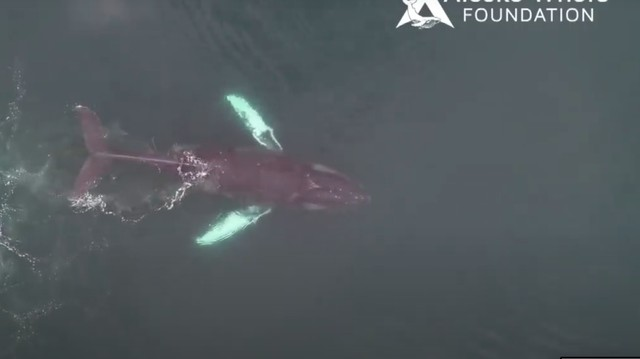whale: (60, 86, 379, 254)
